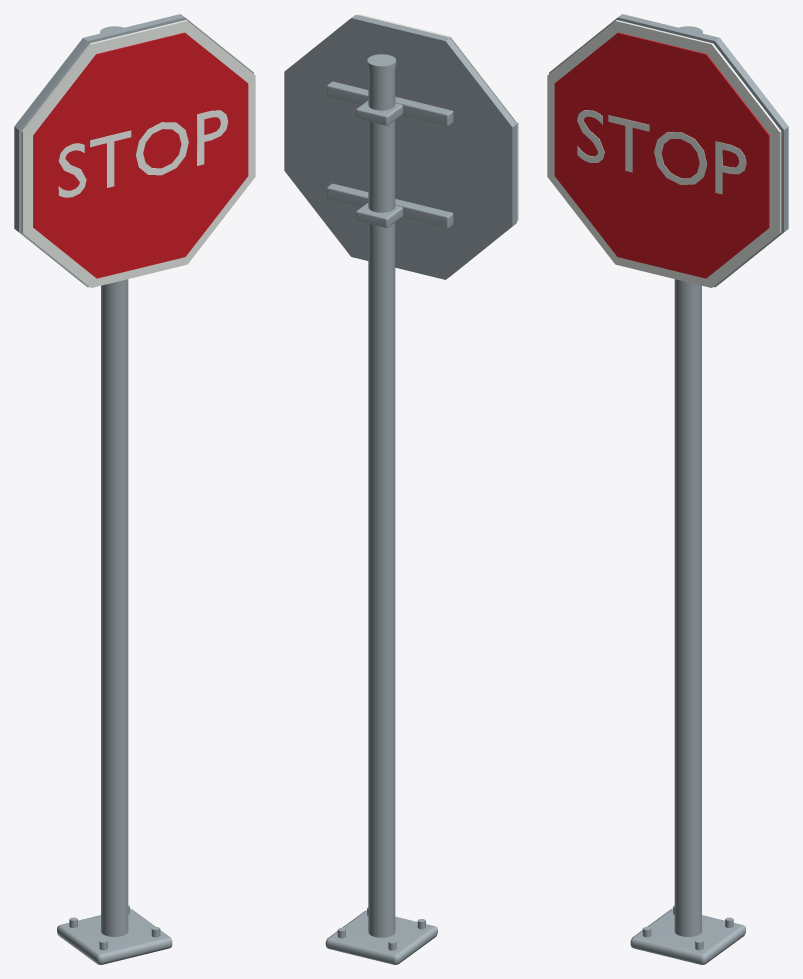
Rendered from DS_Sign_Stop.glb.
3 views of the same model, side by side, from view 1: azimuth 30°, elevation 25°; view 2: azimuth 150°, elevation 25°; view 3: azimuth 330°, elevation 25° (orthographic). The views are drawn at different scales.
Parts seen in each view (by area): view 1: Face_Field, Post, Face_Border, Legend_STOP, BasePlate, Plate_Back; view 2: Plate_Back, Post, BasePlate, RearRail, RearRail.001, Face_Border, PostClamp, PostClamp.001; view 3: Face_Field, Post, Face_Border, Legend_STOP, BasePlate, Plate_Back.
Part boxes in pixels (<box>): Face_Field: <box>33,32,248,278</box>; Post: <box>101,279,128,936</box>; Face_Border: <box>21,20,255,287</box>; Legend_STOP: <box>58,110,228,197</box>; BasePlate: <box>57,908,172,964</box>; Plate_Back: <box>14,14,253,287</box>; Plate_Back: <box>284,15,516,279</box>; Post: <box>368,68,395,937</box>; BasePlate: <box>325,910,437,964</box>; RearRail: <box>326,183,453,228</box>; RearRail.001: <box>326,81,453,126</box>; Face_Border: <box>357,14,518,220</box>; PostClamp: <box>356,202,402,227</box>; PostClamp.001: <box>356,100,402,125</box>; Face_Field: <box>554,32,769,278</box>; Post: <box>674,279,701,936</box>; Face_Border: <box>547,20,781,287</box>; Legend_STOP: <box>577,110,746,194</box>; BasePlate: <box>630,908,745,964</box>; Plate_Back: <box>549,14,788,287</box>.
Bounding box in the file's own units: 0.7483 × 2.82 × 0.2727.
